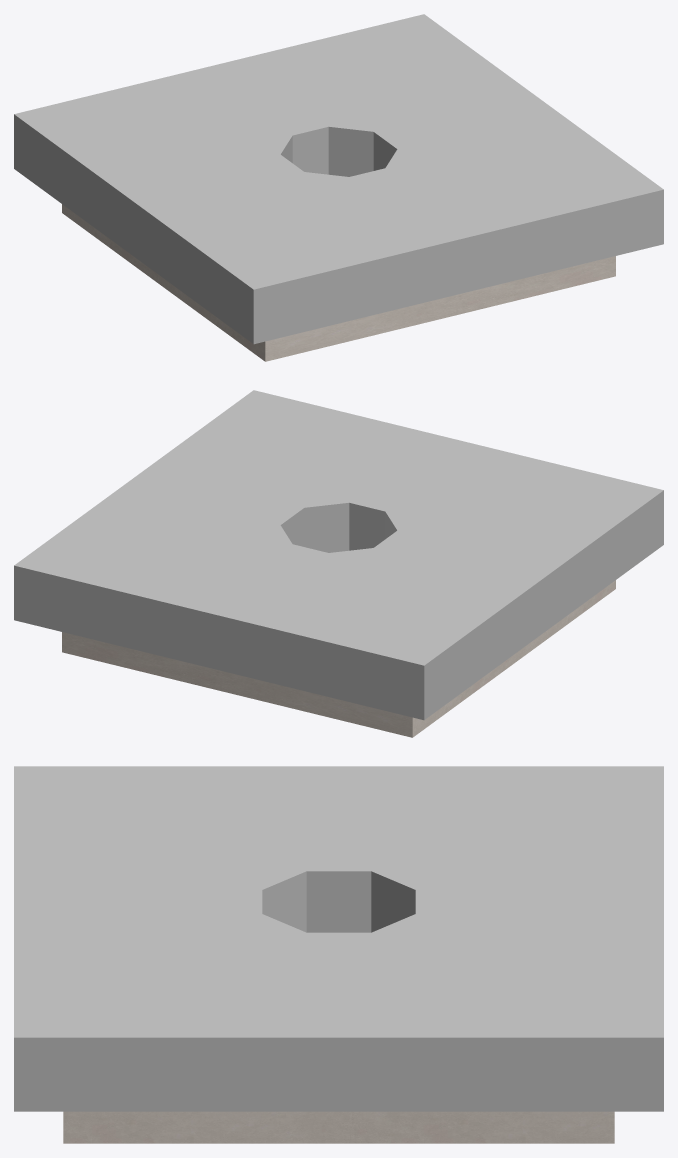
The model's file is SM_Park_Bench_Square_01.fbx.
3 views of the same model, one above another, from view 1: azimuth 30°, elevation 25°; view 2: azimuth 150°, elevation 25°; view 3: azimuth 270°, elevation 25° (orthographic). The views are drawn at different scales.
Parts seen in each view (by area): view 1: SM_Park_Bench_Square_01; view 2: SM_Park_Bench_Square_01; view 3: SM_Park_Bench_Square_01.
Boxes of the visible parts, x1=… form: SM_Park_Bench_Square_01: x1=14, y1=14, x2=663, y2=361; SM_Park_Bench_Square_01: x1=14, y1=390, x2=663, y2=737; SM_Park_Bench_Square_01: x1=14, y1=766, x2=663, y2=1143.
Size of the model in its own units: 2 by 0.432 by 2.02.
